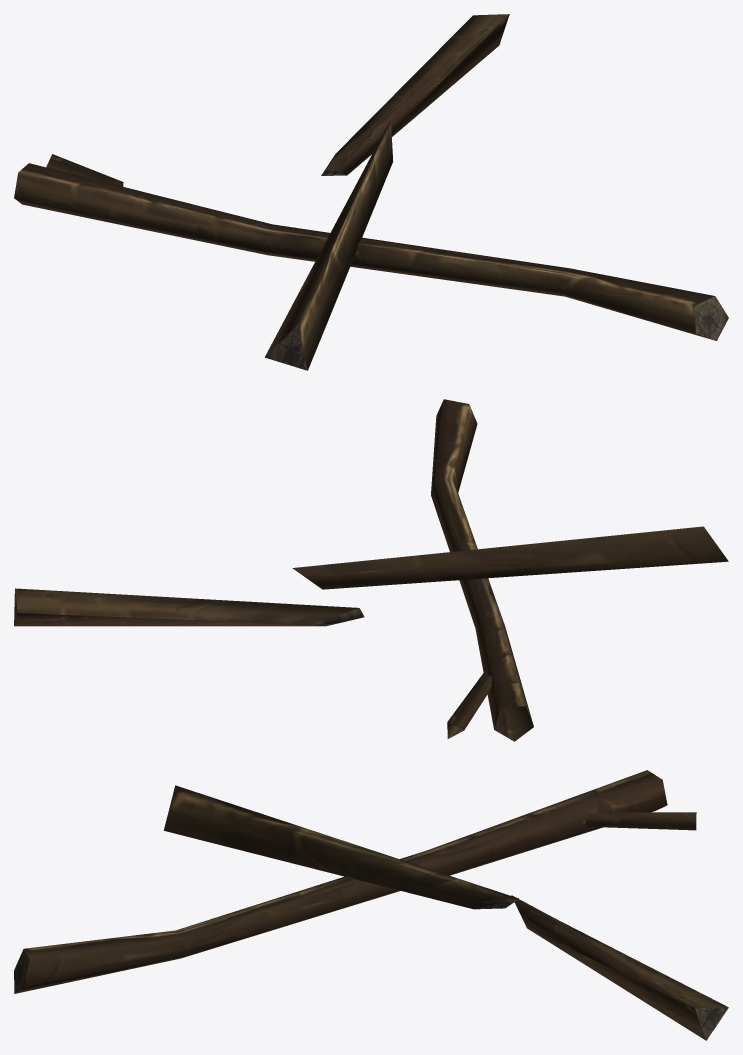
The model's file is Z_pengzi002.fbx.
3 views of the same model, one above another, from view 1: azimuth 30°, elevation 25°; view 2: azimuth 150°, elevation 25°; view 3: azimuth 270°, elevation 25° (orthographic). The views are drawn at different scales.
Visible parts, largest first — view 1: Z_pengzi002; view 2: Z_pengzi002; view 3: Z_pengzi002.
Boxes of the visible parts, box(x1,y1,x2,y2) form: Z_pengzi002: box(14, 14, 728, 370); Z_pengzi002: box(14, 399, 728, 741); Z_pengzi002: box(14, 770, 728, 1040).
Size of the model in its own units: 303 by 35.35 by 356.
